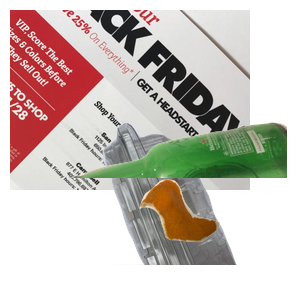glass: (60, 120, 300, 300)
paper: (10, 10, 250, 190)
plastic: (55, 120, 284, 300)
trash: (137, 177, 300, 300)
